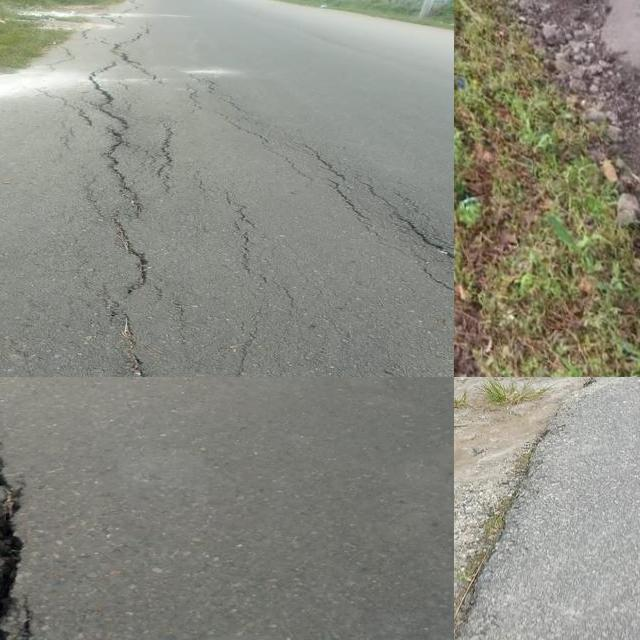Memanjang: (234, 95, 454, 304), (76, 11, 171, 377)
Pinggir: (454, 377, 617, 640), (506, 0, 640, 198)
